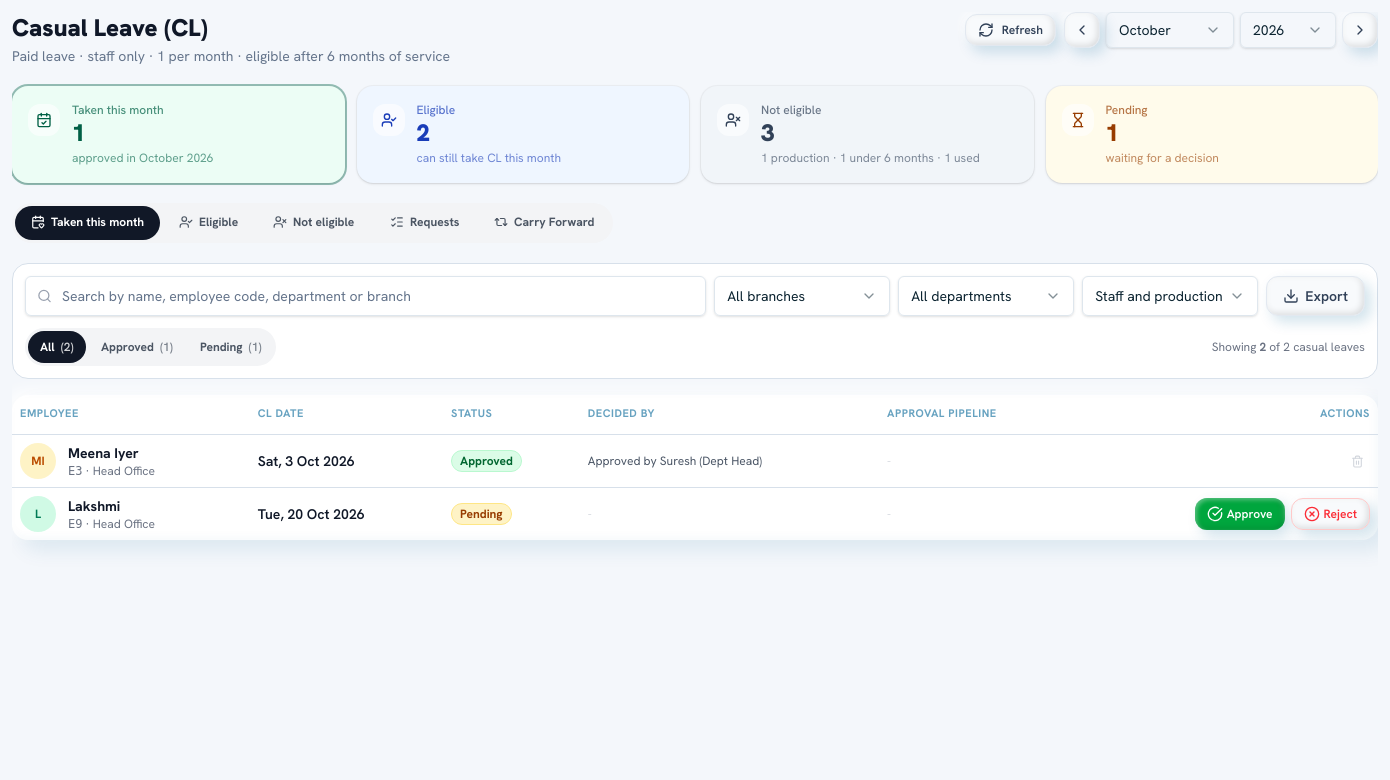
Test case: the Casual Leave page › Eligible lists who can still take CL, with an Apply CL for each
The image size is (1390, 780).
Click the tab "Eligible" at (209, 222), box 163,206 -> 254,240
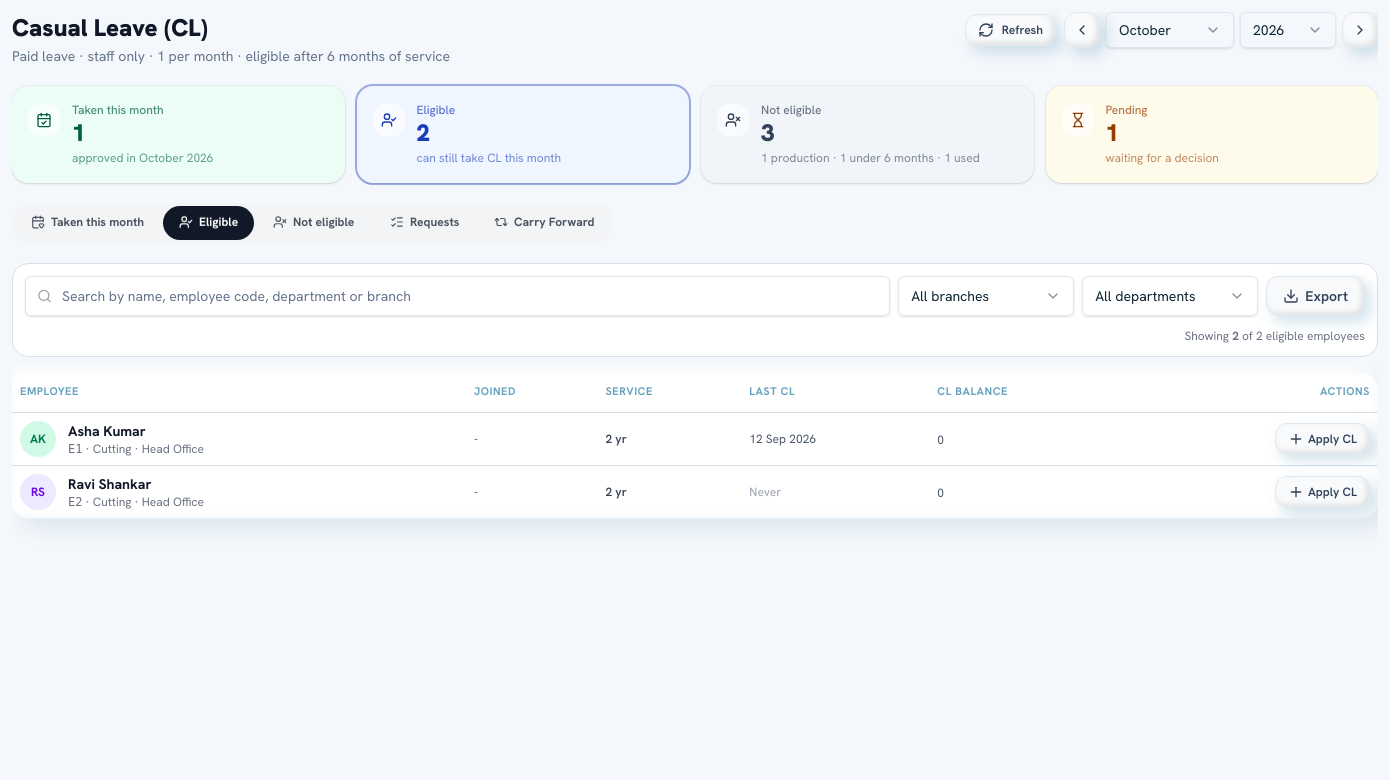
Check: the row with test id "eligible-" is shown, box 12,412 -> 1378,466
Check: the row with test id "eligible-" shows "Asha Kumar", box 68,422 -> 146,440
Check: the row with test id "eligible-" shows "12 Sep 2026", box 749,431 -> 816,447
